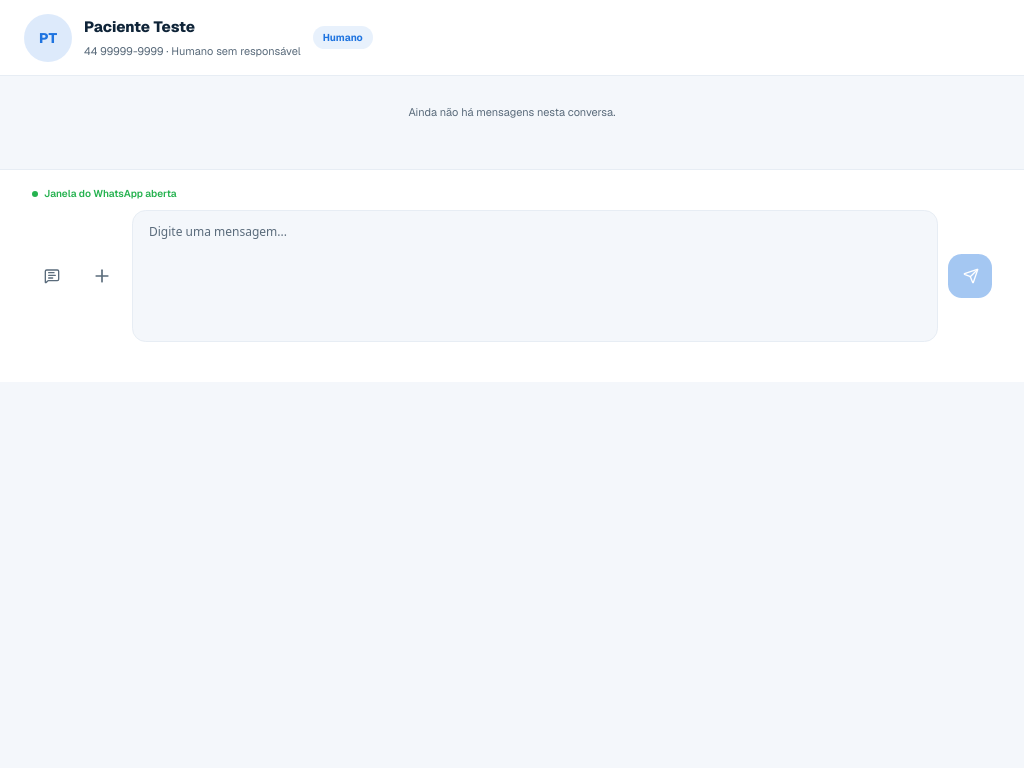
Test case: ChatWindow › should_insert_quick_message_content_without_sending_automatically
The image size is (1024, 768).
(page scrolled)
Click the button named "Mensagens rápidas" at coordinates (52, 276), box [32,256,72,296]
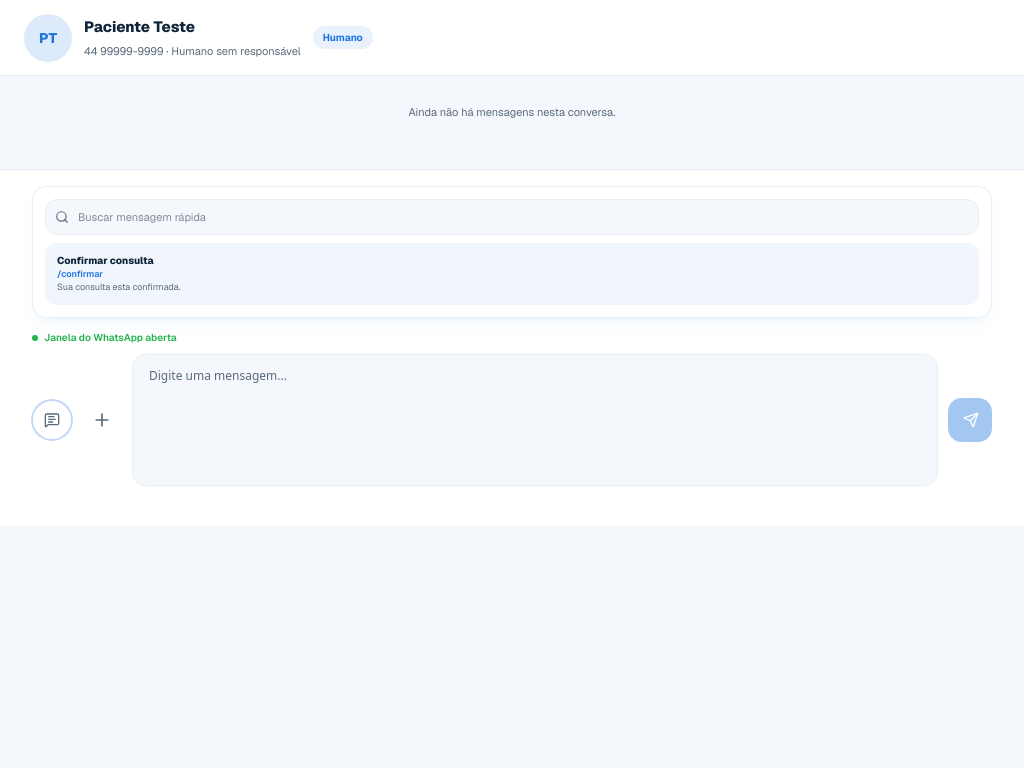
Type "confirmar" into the dropdown named "Buscar mensagens rápidas" at coordinates (512, 216), box [45,198,979,234]
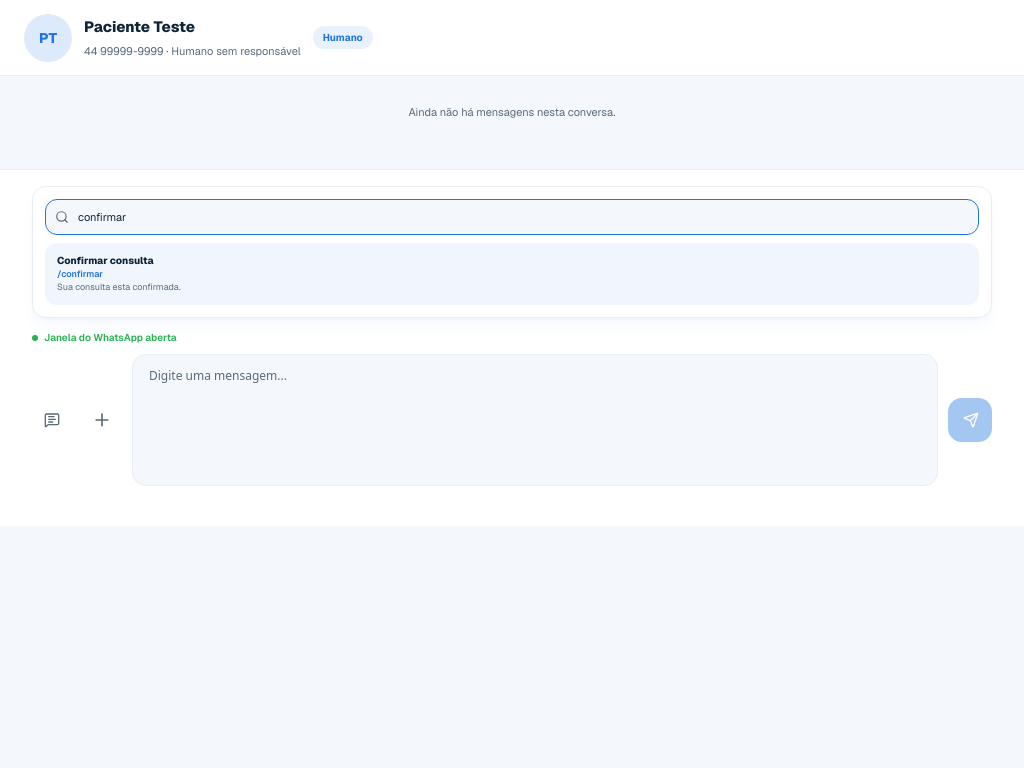
Click the option "Confirmar consulta /confirmar Sua consulta esta confirmada." at coordinates (105, 260), box [45,242,979,304]
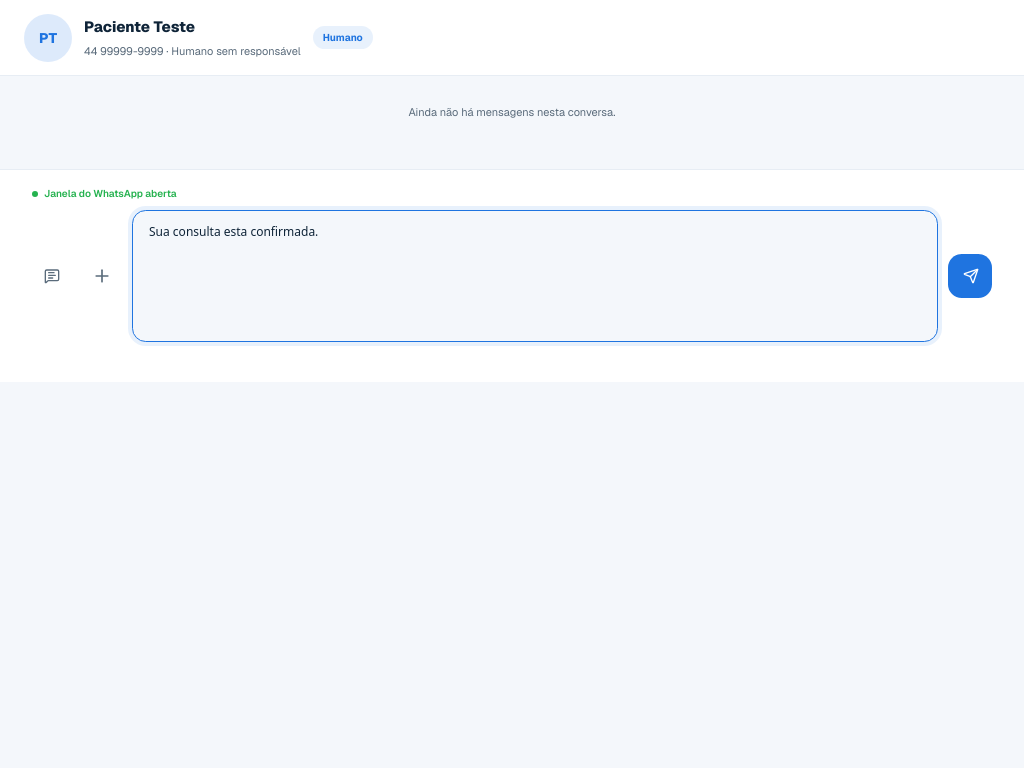
Now the text box with placeholder "Digite uma mensagem..." holds "Sua consulta esta confirmada.", box [132,210,938,342]
